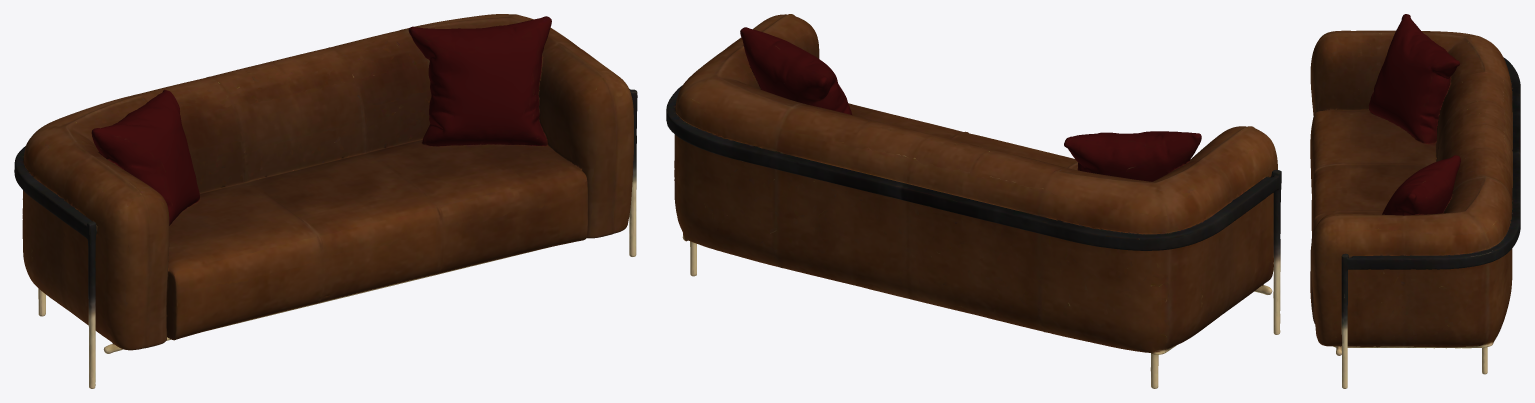
File: Distressed Brown Leather Industrial Sofa [b8Hiec].glb
3 renders of one model, left to right at view 1: azimuth 30°, elevation 25°; view 2: azimuth 150°, elevation 25°; view 3: azimuth 270°, elevation 25°, orthographic. The views are drawn at different scales.
Visible parts, largest first — view 1: world; view 2: world; view 3: world.
Part boxes in pixels (bbox=[...]): world: bbox=[14, 14, 637, 388]; world: bbox=[666, 14, 1281, 388]; world: bbox=[1310, 14, 1520, 388].
Size of the model in its own units: 1 by 0.3863 by 0.4138.
1 material, 1 textured.
